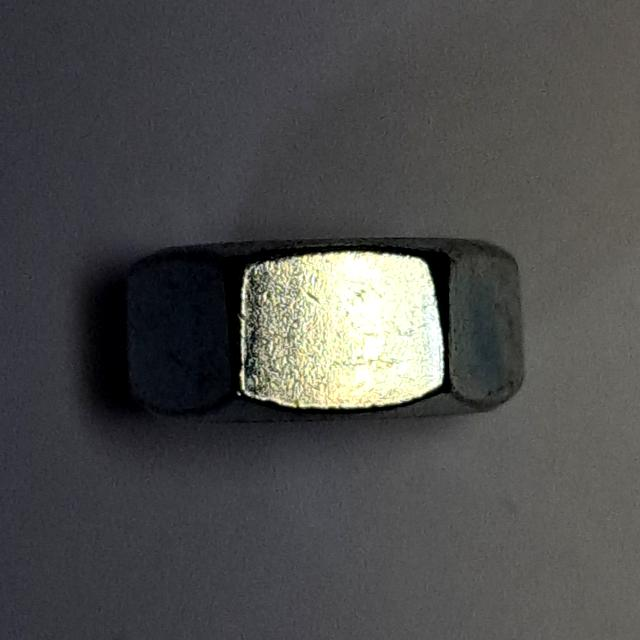Side_Excellent: (111, 209, 544, 446)
